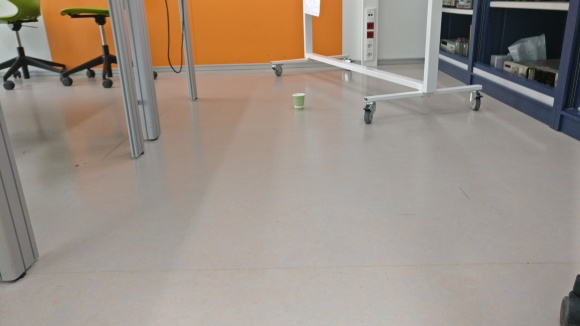cup: (291, 92, 306, 110)
